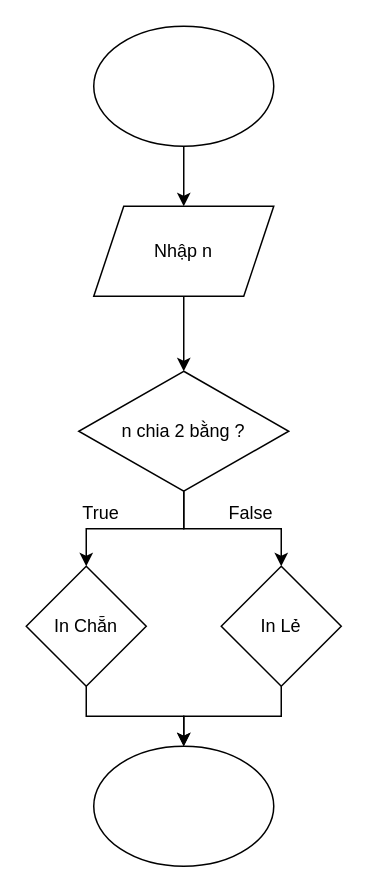
Some shapes in this 368 by 893 pixel diagram are drawn without their labels. Each missing label, with the box of its shape:
End: (92, 745, 274, 866)
Start: (92, 25, 274, 146)
